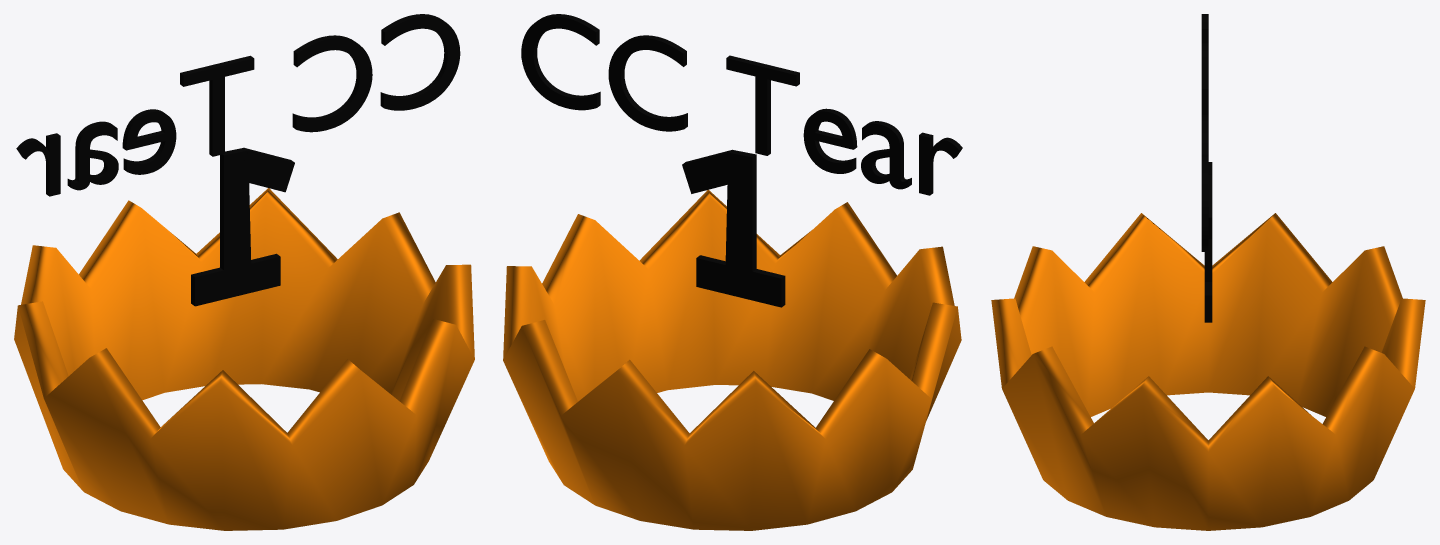
File: CC Level 1 Crown.fbx
3 renders of one model, left to right at view 1: azimuth 30°, elevation 25°; view 2: azimuth 150°, elevation 25°; view 3: azimuth 270°, elevation 25°, orthographic. The views are drawn at different scales.
Visible parts, largest first — view 1: Cube, Text; view 2: Cube, Text; view 3: Cube, Text.
Part boxes in pixels (left/top/right/bottom): Cube: left=14, top=147, right=474, bottom=530; Text: left=16, top=14, right=460, bottom=196; Cube: left=503, top=149, right=961, bottom=530; Text: left=521, top=14, right=962, bottom=195; Cube: left=991, top=162, right=1425, bottom=530; Text: left=1201, top=14, right=1208, bottom=251.
Size of the model in its own units: 274 by 236 by 250.
